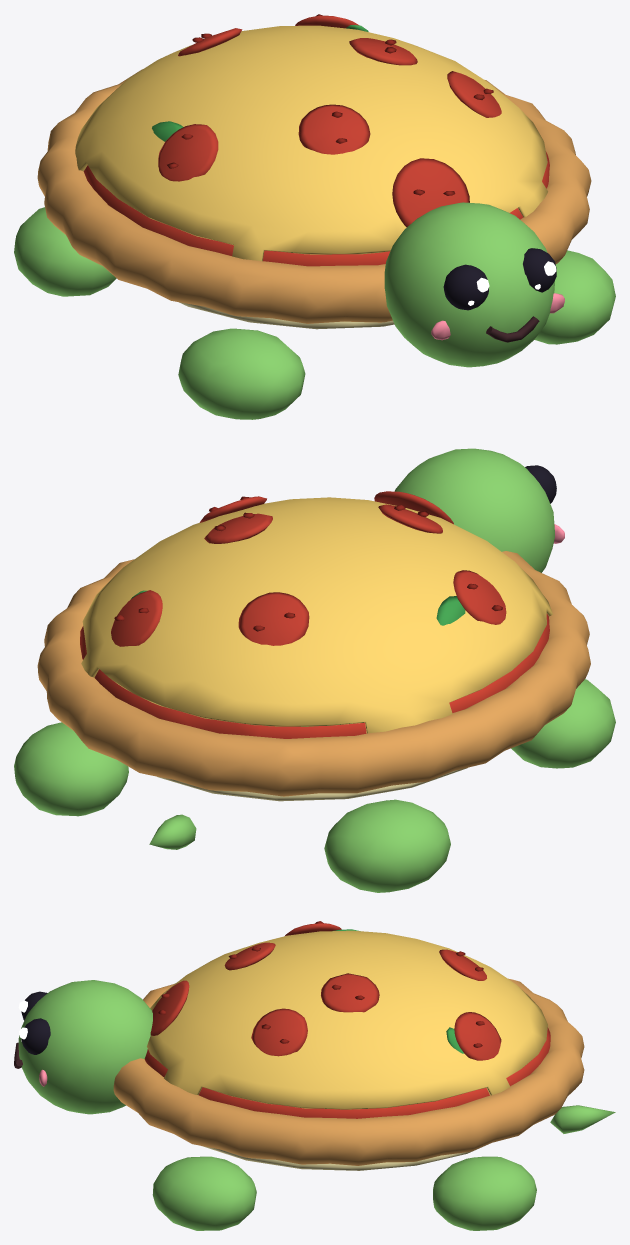
Rendered from pilot_skilpadde_pizza_lav.glb.
The picture shows the model from 3 angles, top to bottom: view 1: azimuth 30°, elevation 25°; view 2: azimuth 150°, elevation 25°; view 3: azimuth 270°, elevation 25°; orthographic projection. The views are drawn at different scales.
Parts seen in each view (by area): view 1: kropp, hode, bein_vf, bein_vb, bein_hf; view 2: kropp, hode, bein_vb, bein_hb, bein_vf, hale; view 3: kropp, hode, bein_hb, bein_hf, hale.
Part boxes in pixels (x1,y1,x2,y2): kropp: (37, 14, 591, 329); hode: (384, 202, 564, 367); bein_vf: (178, 328, 305, 419); bein_vb: (14, 207, 116, 296); bein_hf: (534, 250, 615, 344); kropp: (37, 491, 590, 801); hode: (394, 448, 564, 572); bein_vb: (324, 799, 450, 892); bein_hb: (14, 722, 128, 816); bein_vf: (511, 679, 615, 768); hale: (149, 814, 196, 849); kropp: (113, 921, 584, 1170); hode: (14, 980, 152, 1114); bein_hb: (433, 1156, 536, 1230); bein_hf: (152, 1156, 256, 1230); hale: (550, 1105, 615, 1133).
Size of the model in its own units: 1.4 by 0.7185 by 1.9.
